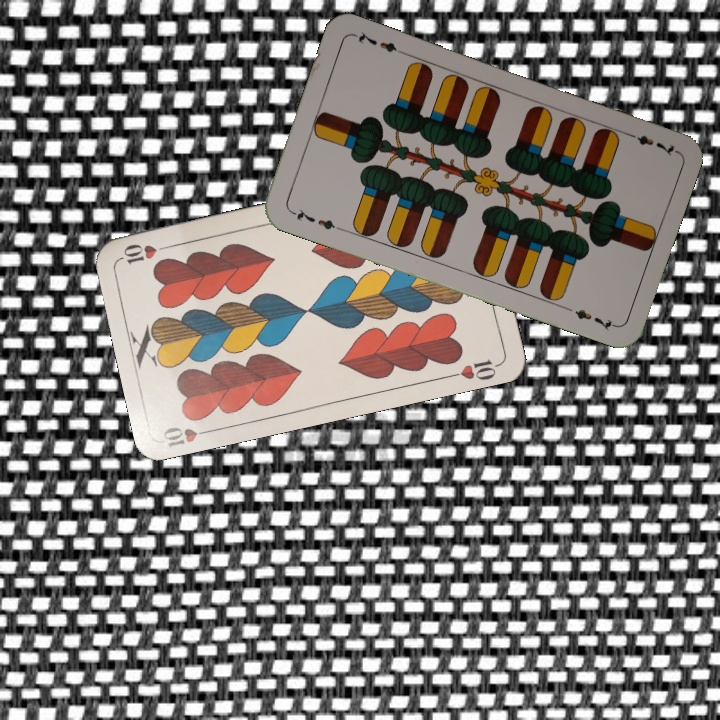E7: (621, 128, 679, 159), (287, 204, 344, 234)
H10: (159, 421, 218, 450)
